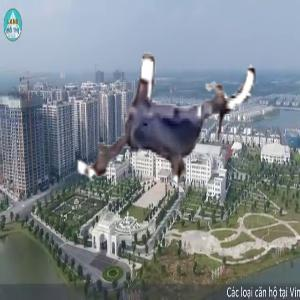drone: (68, 26, 265, 223)
